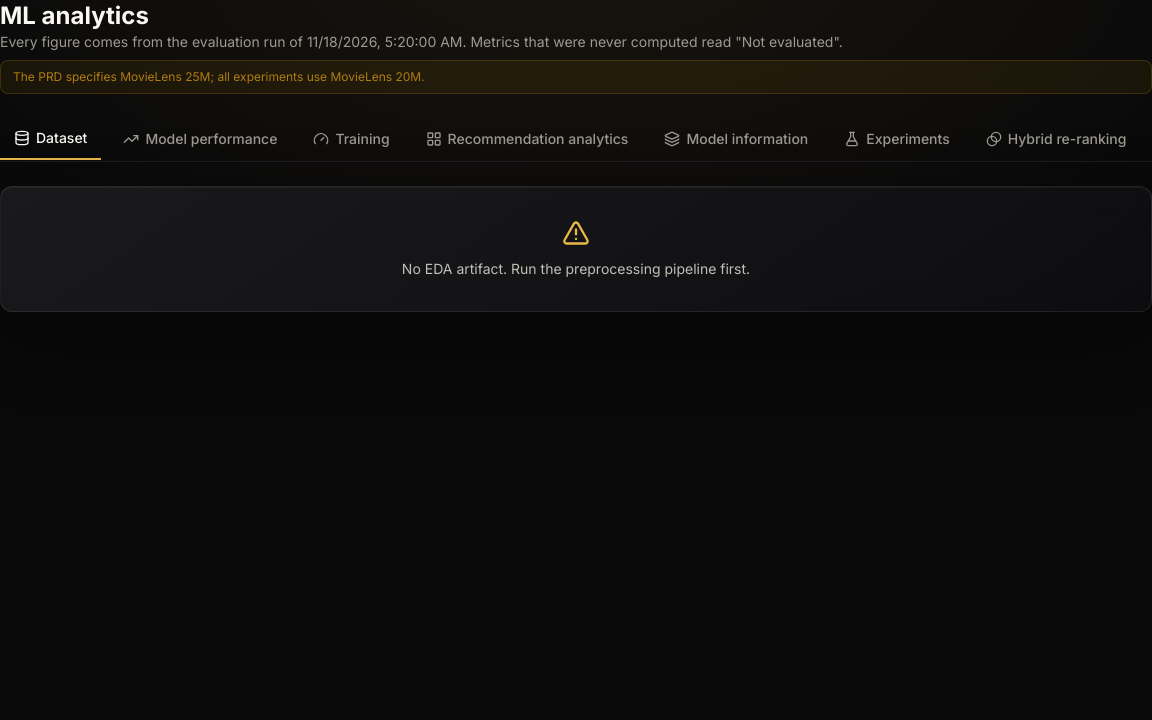
Test: Analytics dashboard › shows measured metrics for all three models on the performance tab
Click the button "Model performance".
click(200, 139)  # box [109, 118, 291, 160]
(page scrolled)
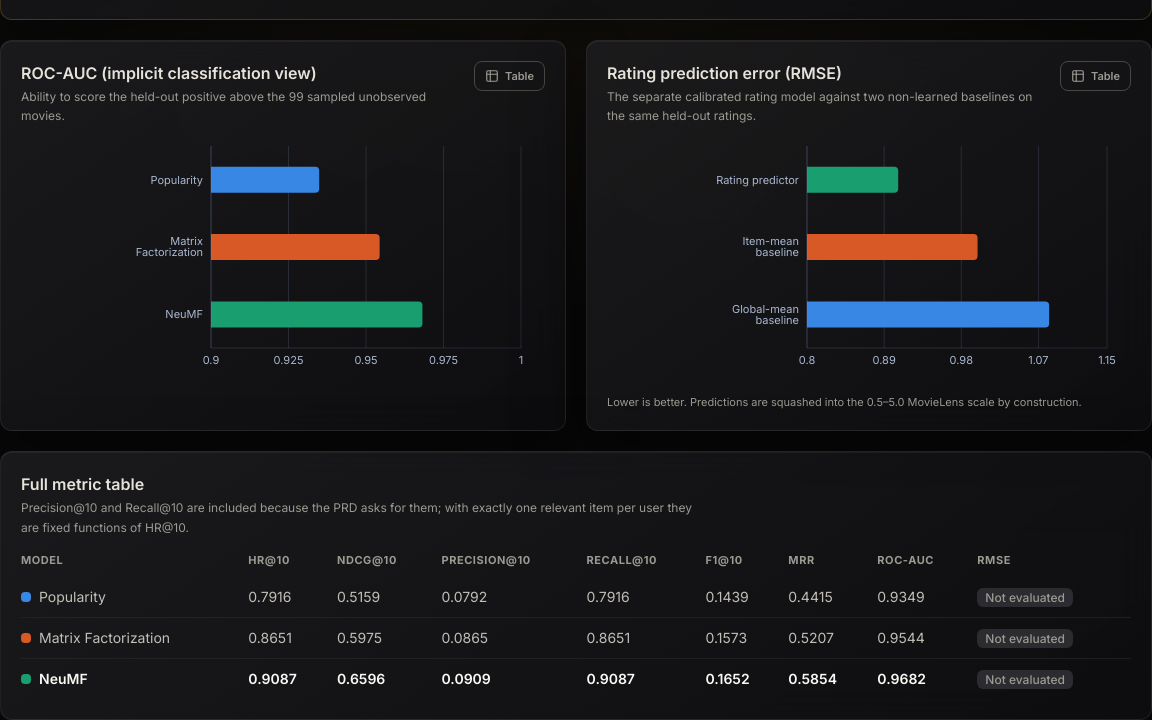
Check: the 1st text "0.8651" is shown, box [248, 617, 337, 658]
Check: the 1st text "0.7916" is shown, box [248, 577, 337, 617]
